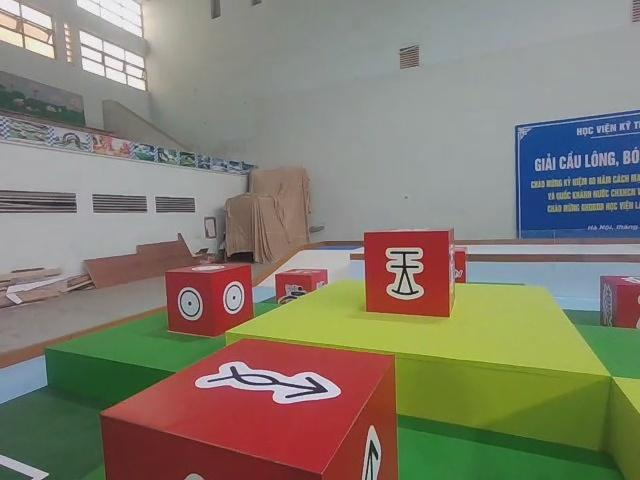R1: (272, 265, 330, 310)
R2 Fake: (597, 271, 640, 330)
R2 Real: (98, 337, 397, 479), (363, 230, 455, 319), (165, 262, 253, 337)
